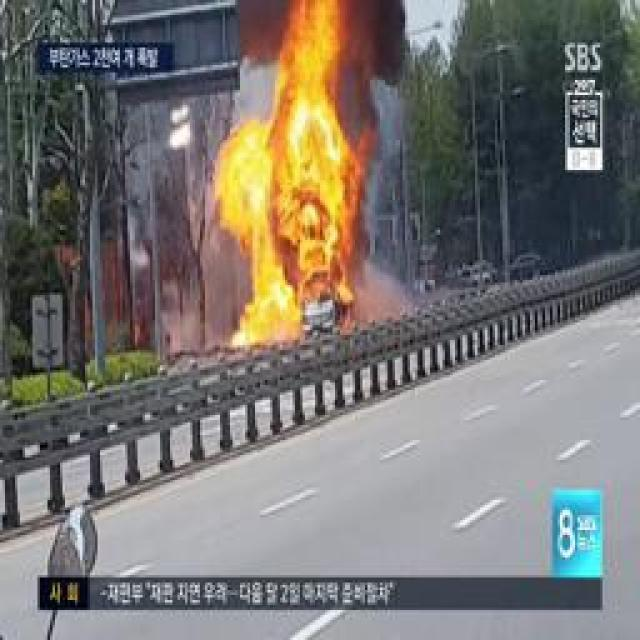Fire: (246, 125, 340, 344), (283, 3, 341, 117), (218, 128, 255, 236)
